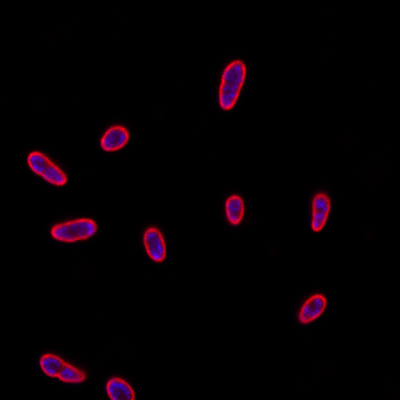Mecillinam: (218, 60, 247, 112), (27, 151, 66, 185), (49, 218, 97, 243), (142, 226, 167, 264), (297, 295, 327, 325), (310, 192, 330, 232), (100, 125, 129, 151), (106, 377, 135, 400), (224, 194, 244, 226)
Oblique: (39, 354, 85, 383)
